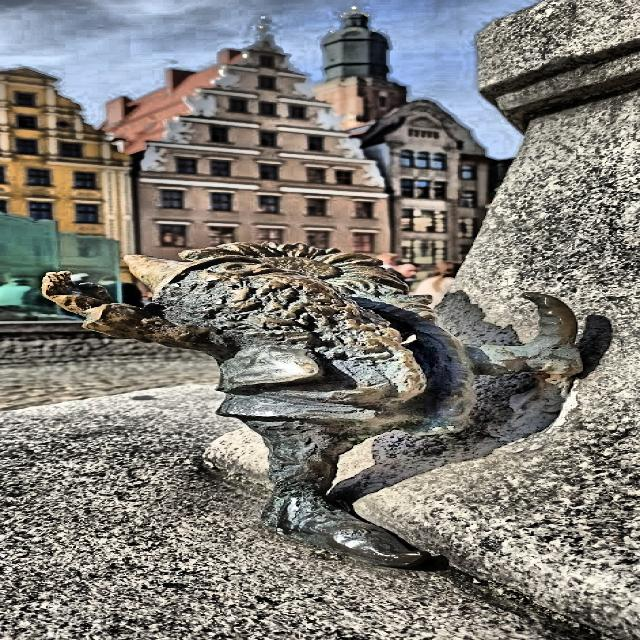Zyczliwek: (43, 242, 582, 567)
